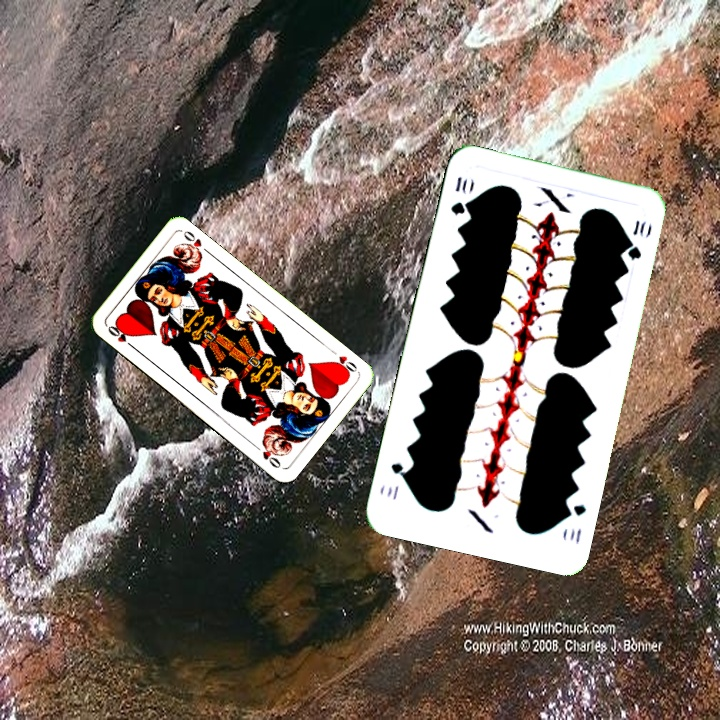G10: (561, 500, 589, 547), (447, 172, 471, 218)
HO: (103, 321, 138, 351), (329, 352, 360, 378)
